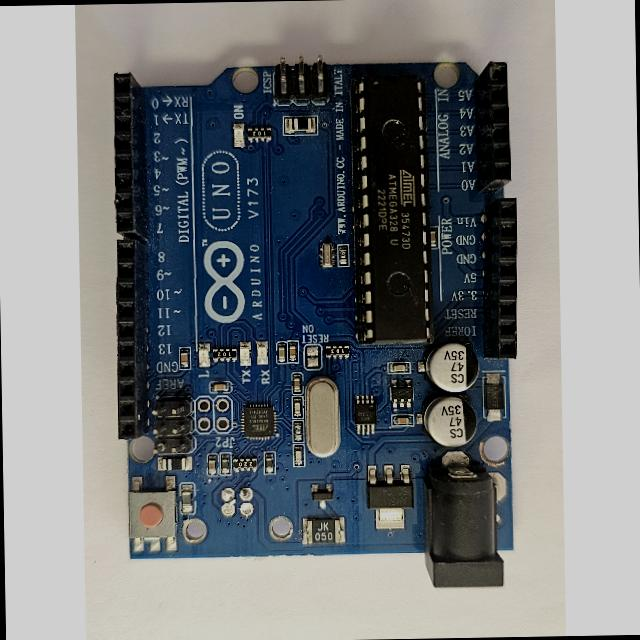missing_usb: (192, 476, 297, 557)
